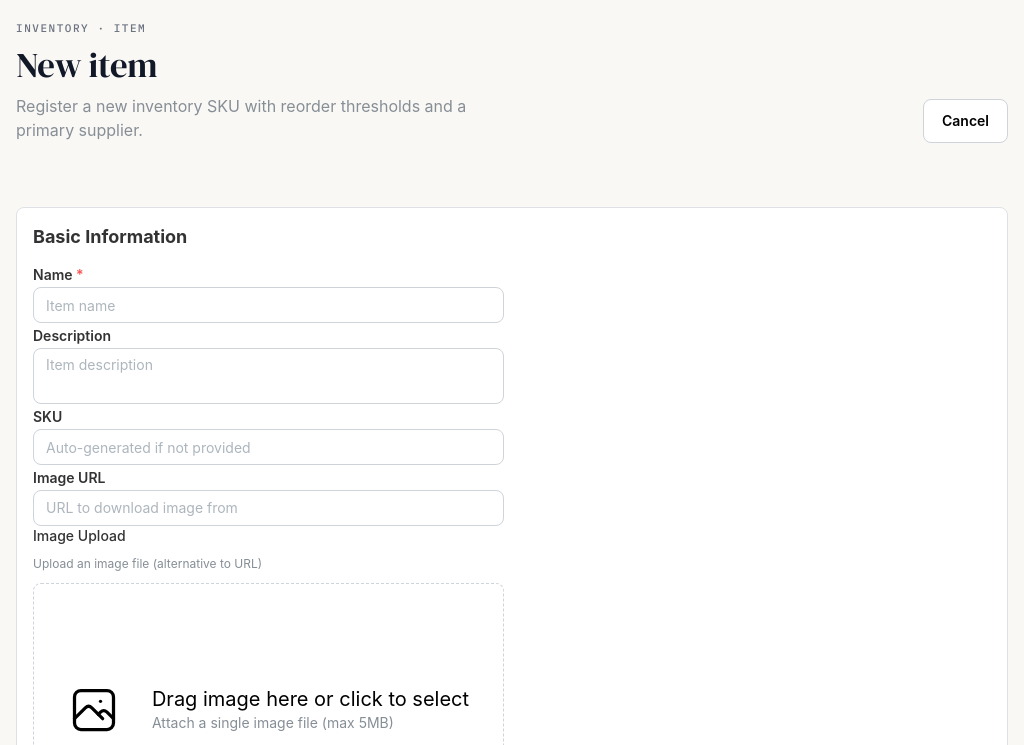
Test case: InventoryItemFormPage › surfaces the permission message when the create is forbidden (403)
The width and height of the screenshot is (1024, 745).
In the field labelled "Name *": (268, 305) [33,287,504,323], type "New Item"
(page scrolled)
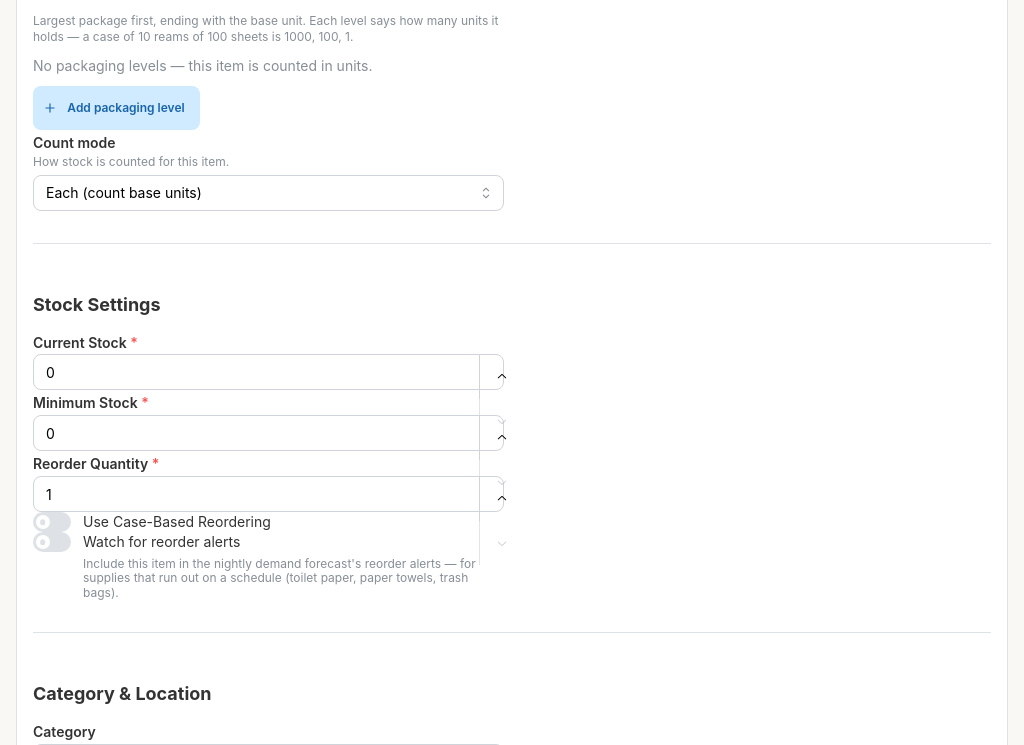
Replace the text in the field labelled "Current Stock *" with "10": (268, 372) [33,354,504,390]
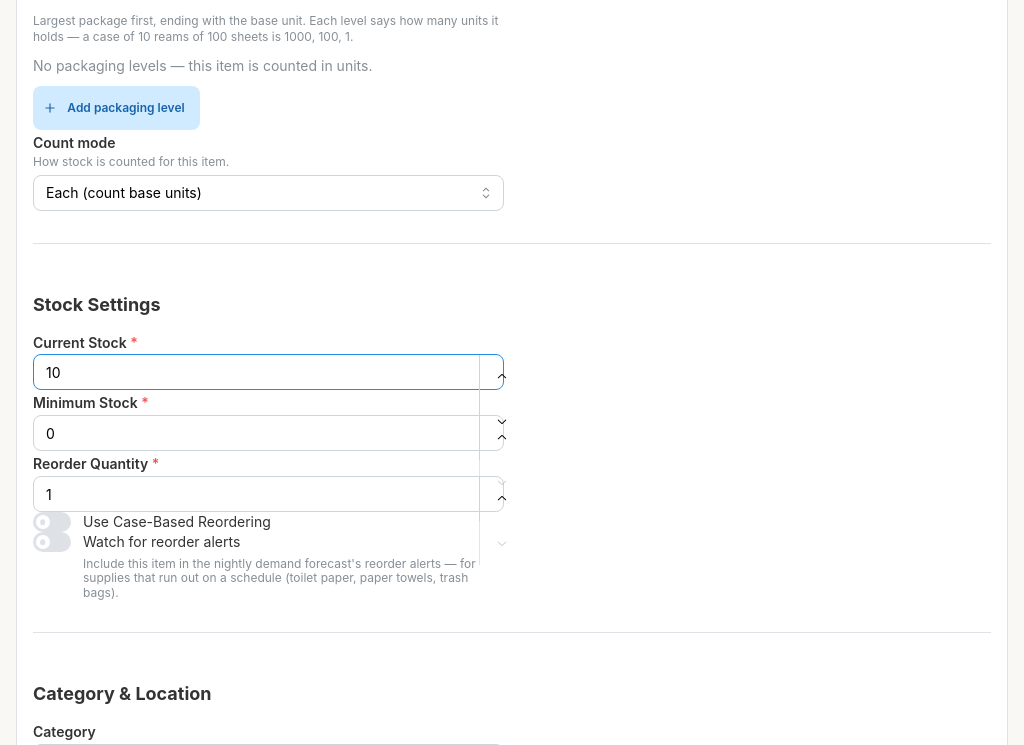
Replace the text in the field labelled "Minimum Stock *" with "5": (268, 433) [33,415,504,451]
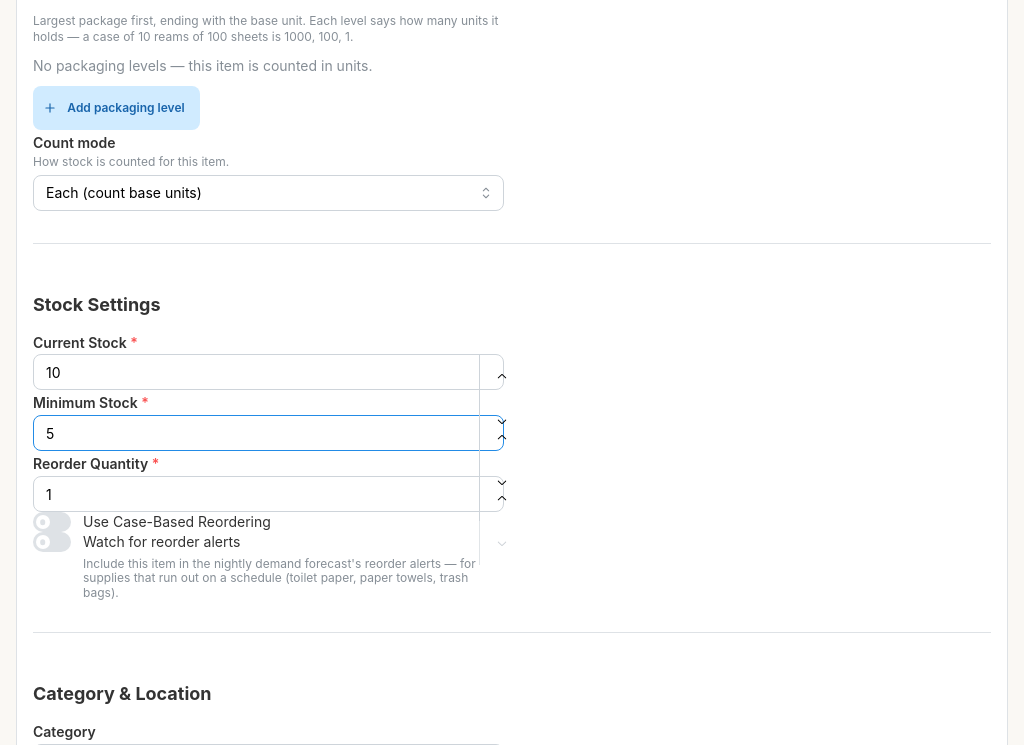
Replace the text in the field labelled "Reorder Quantity *" with "20": (268, 494) [33,476,504,512]
(page scrolled)
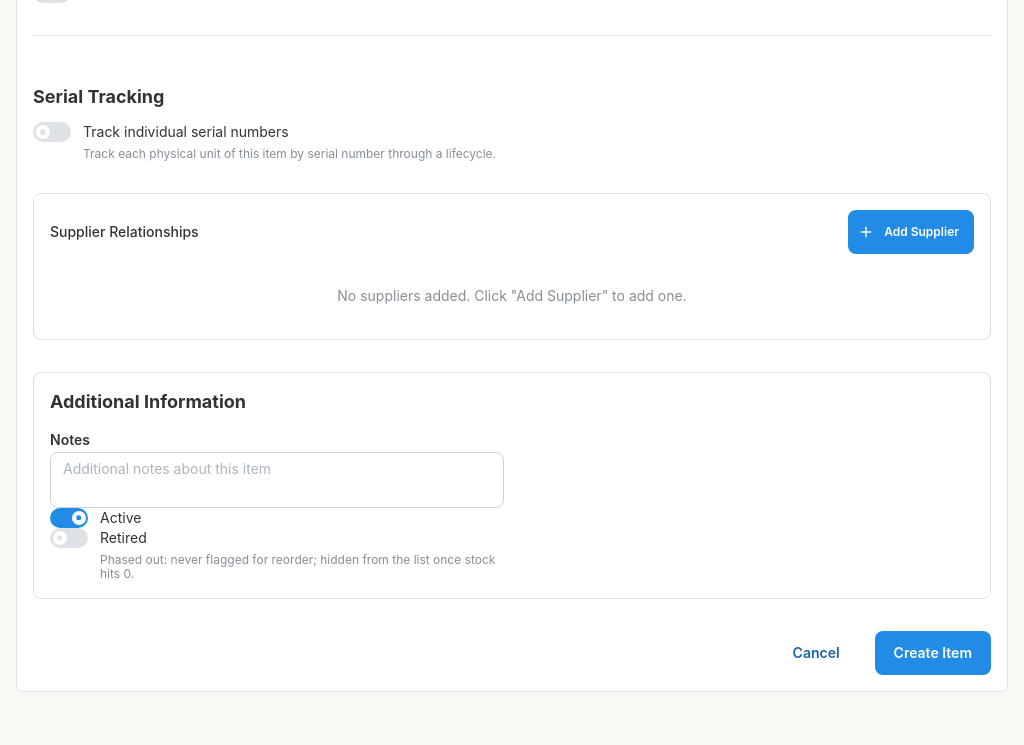
Click the button "Create Item": (933, 653) [875,631,991,675]
(page scrolled)
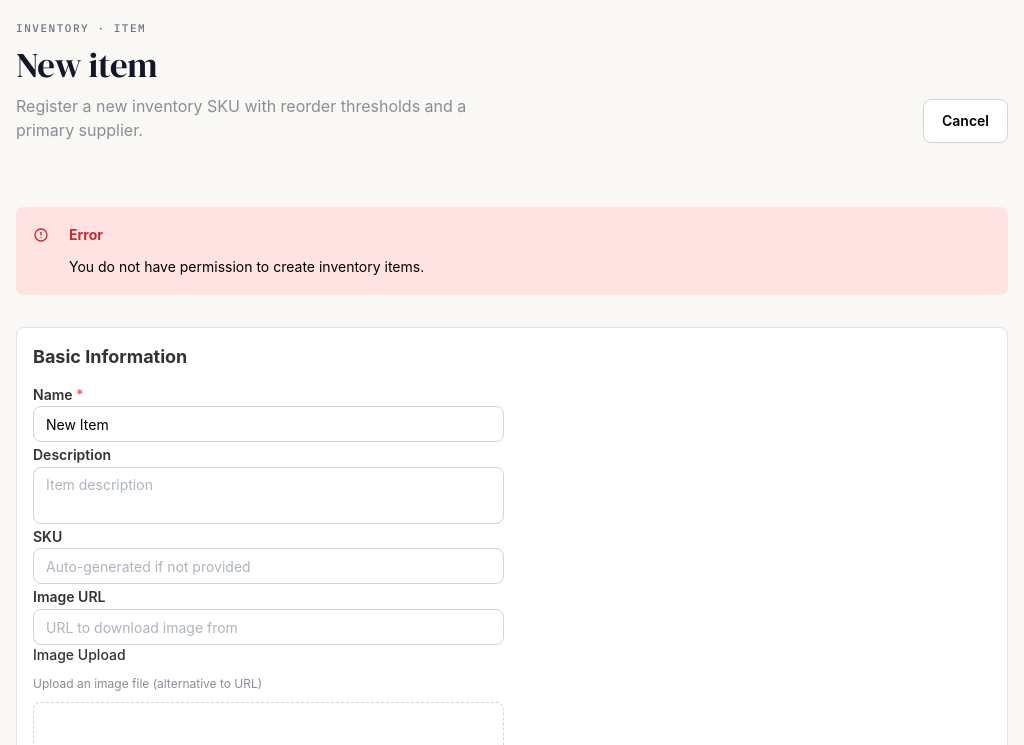
Expected: the text "You do not have permission to create inventory items." is shown, [69,258,424,275]
